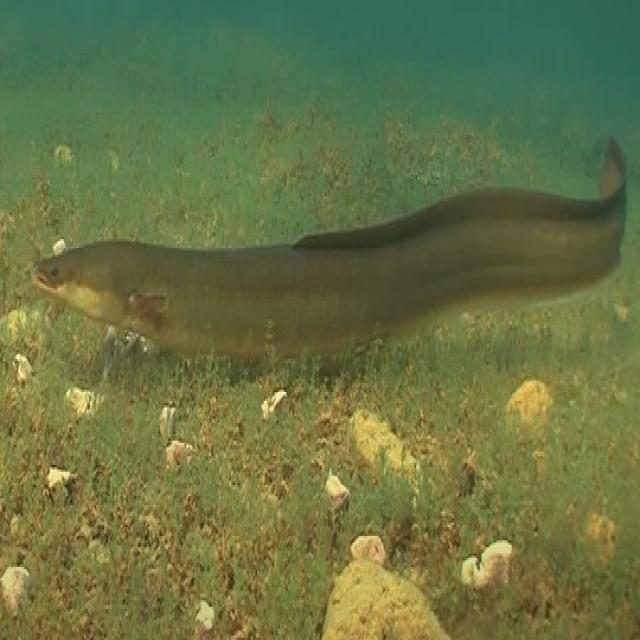Freshwater-Eel: (31, 168, 640, 346)
